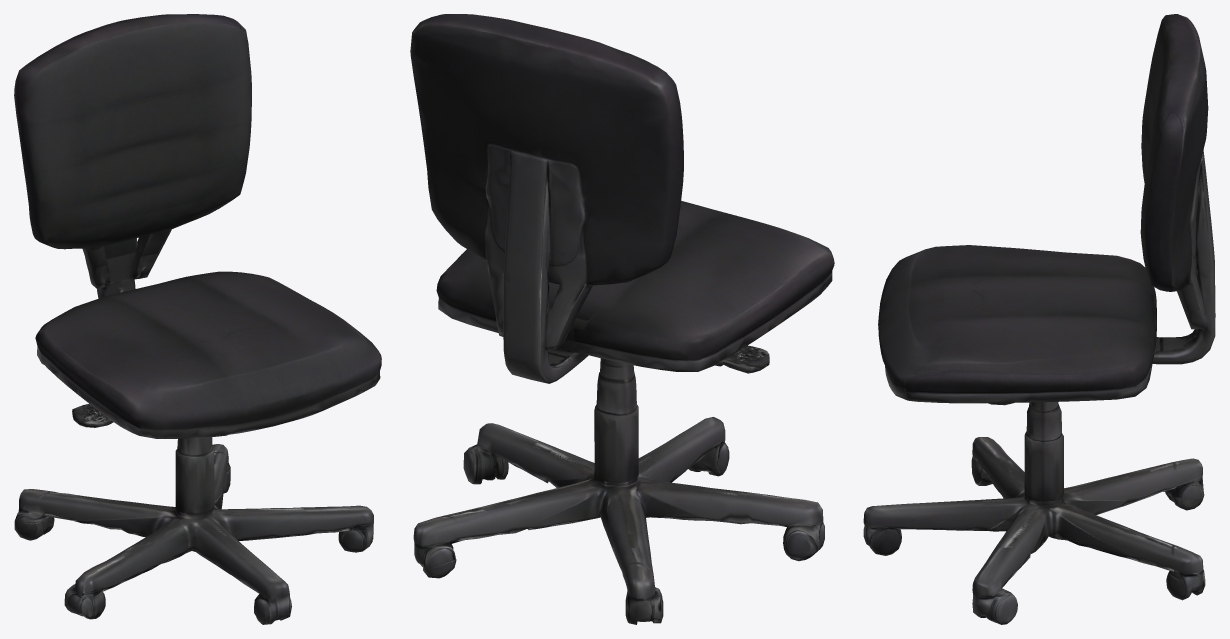
Rendered from Office_Chair_0421135222_texture.glb.
3 renders of one model, left to right at view 1: azimuth 30°, elevation 25°; view 2: azimuth 150°, elevation 25°; view 3: azimuth 270°, elevation 25°, orthographic. The views are drawn at different scales.
Size of the model in its own units: 1.31 by 2 by 1.27.
1 material, 1 textured.
